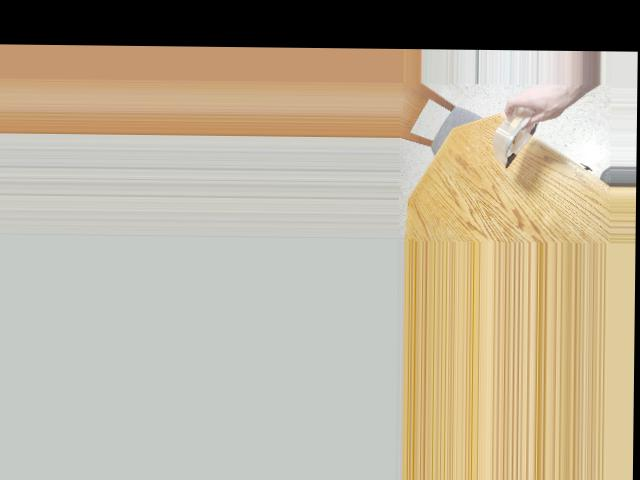cheese: (484, 99, 560, 162)
